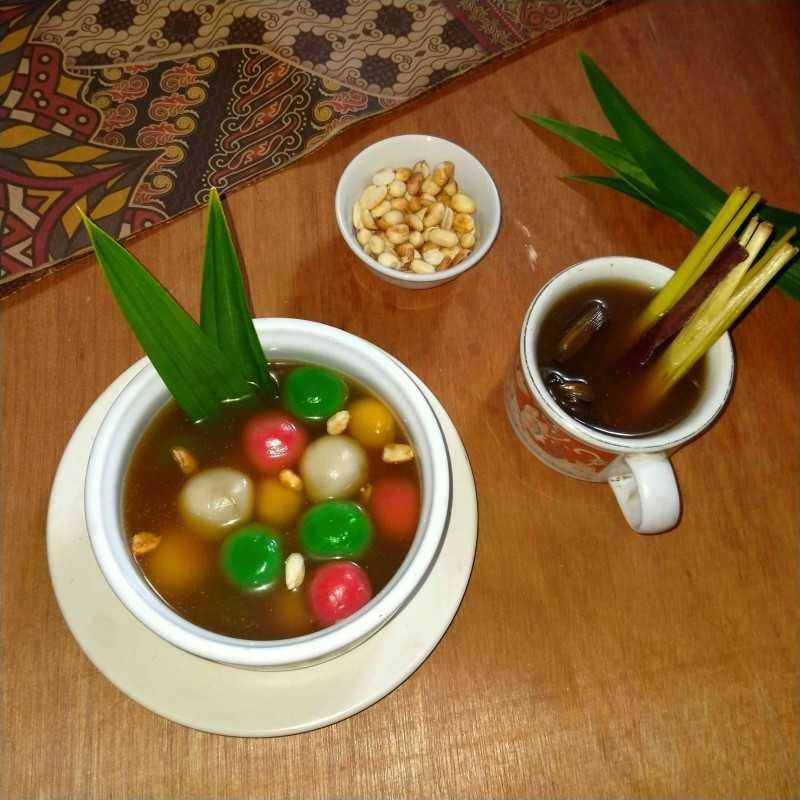ronde: (120, 364, 426, 642)
